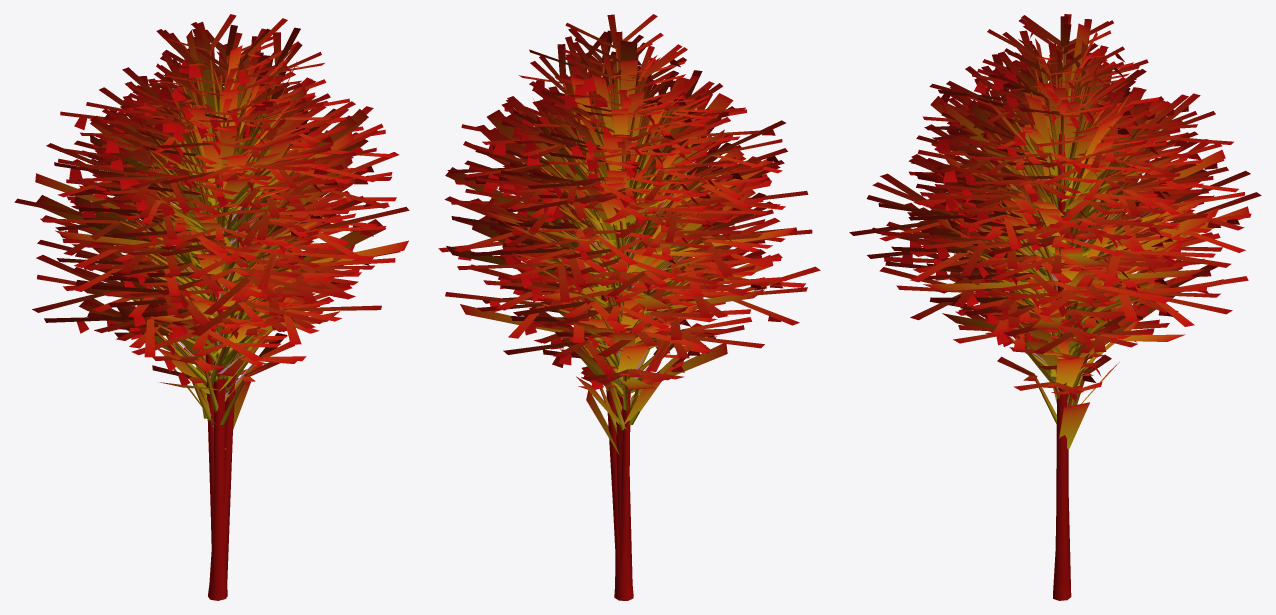
Rendered from ash.glb.
3 views of the same model, side by side, from view 1: azimuth 30°, elevation 25°; view 2: azimuth 150°, elevation 25°; view 3: azimuth 270°, elevation 25° (orthographic). The views are drawn at different scales.
Visible parts, largest first — view 1: v3, v9, v0, v2, v7, v6, v5, v1, v8, v9_far, v4, v3_far (+8 smaller); view 2: v3, v9, v7, v2, v6, v0, v5, v1, v3_far, v8, v1_far, v4_far (+8 smaller); view 3: v3, v9, v5, v2, v7, v0, v1, v6, v5_far, v8, v4, v3_far (+8 smaller).
Part boxes in pixels (<box>): v3: <box>32,71,400,400</box>; v9: <box>14,76,409,600</box>; v0: <box>65,47,364,598</box>; v2: <box>42,29,351,343</box>; v7: <box>58,18,391,372</box>; v6: <box>72,14,352,600</box>; v5: <box>116,27,396,600</box>; v1: <box>88,29,343,255</box>; v8: <box>79,76,348,552</box>; v9_far: <box>36,78,385,341</box>; v4: <box>119,28,321,427</box>; v3_far: <box>35,62,408,390</box>; v3: <box>445,80,820,387</box>; v9: <box>438,83,812,585</box>; v7: <box>454,14,787,367</box>; v2: <box>464,54,781,357</box>; v6: <box>499,34,755,600</box>; v0: <box>465,66,780,600</box>; v5: <box>447,28,725,600</box>; v1: <box>500,47,745,263</box>; v3_far: <box>445,76,764,393</box>; v8: <box>494,100,772,556</box>; v1_far: <box>519,60,746,288</box>; v4_far: <box>518,41,704,454</box>; v3: <box>867,53,1261,401</box>; v9: <box>849,71,1250,600</box>; v5: <box>913,41,1211,586</box>; v2: <box>907,45,1213,337</box>; v7: <box>917,16,1198,348</box>; v0: <box>912,47,1228,600</box>; v1: <box>936,14,1188,254</box>; v6: <box>929,19,1197,590</box>; v5_far: <box>973,71,1215,586</box>; v8: <box>949,77,1202,350</box>; v4: <box>953,24,1173,424</box>; v3_far: <box>923,69,1249,382</box>.
Size of the model in its own units: 7.96 by 12.78 by 8.34.
